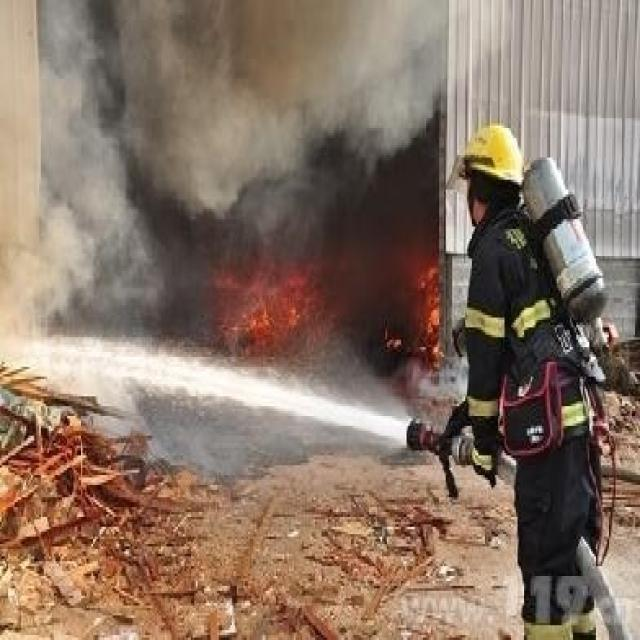Fire: (416, 266, 441, 357)
Smoke: (36, 2, 513, 325), (404, 352, 470, 414)
